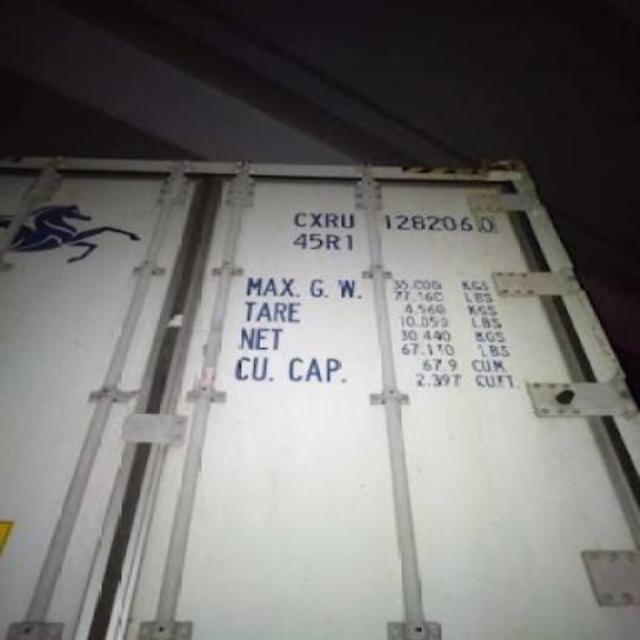0: (440, 215, 458, 231), (478, 217, 496, 233)
1: (382, 213, 394, 231)
2: (424, 212, 446, 235), (394, 215, 412, 231)
6: (458, 215, 474, 233)
8: (412, 212, 426, 234)
C: (292, 211, 308, 229)
R: (326, 209, 338, 229)
U: (338, 213, 356, 231)
X: (308, 209, 326, 229)
